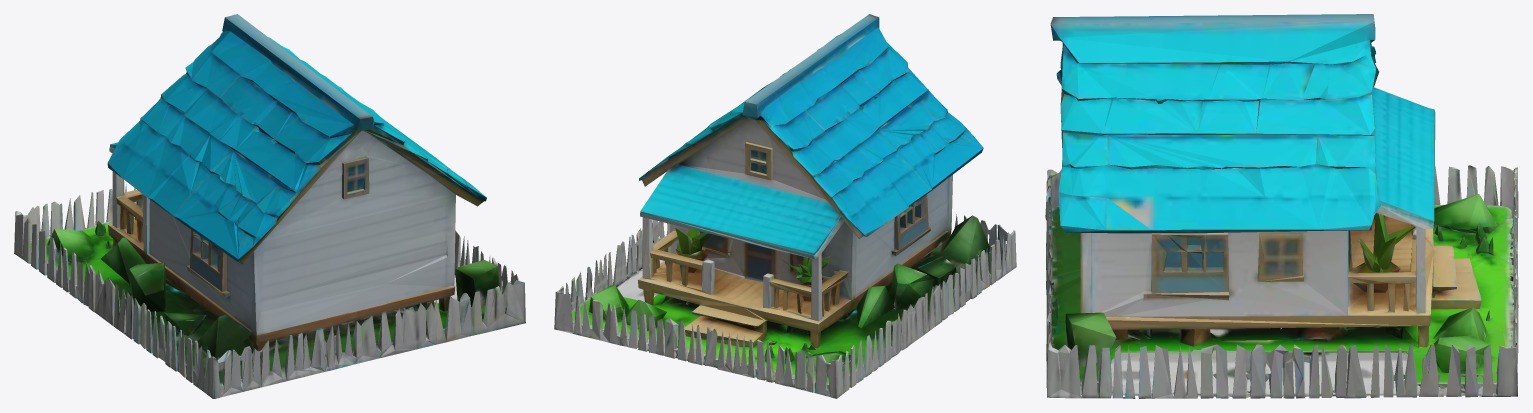
File: b-house.glb
The picture shows the model from 3 angles, left to right: view 1: azimuth 30°, elevation 25°; view 2: azimuth 150°, elevation 25°; view 3: azimuth 270°, elevation 25°; orthographic projection. The views are drawn at different scales.
Parts seen in each view (by area): view 1: geometry_0; view 2: geometry_0; view 3: geometry_0.
Boxes of the visible parts, x1=… form: geometry_0: x1=14, y1=14, x2=525, y2=398; geometry_0: x1=554, y1=14, x2=1016, y2=398; geometry_0: x1=1045, y1=14, x2=1518, y2=398.
Size of the model in its own units: 0.8883 by 0.666 by 0.9824.
Materials: 1 (1 with a texture image).
